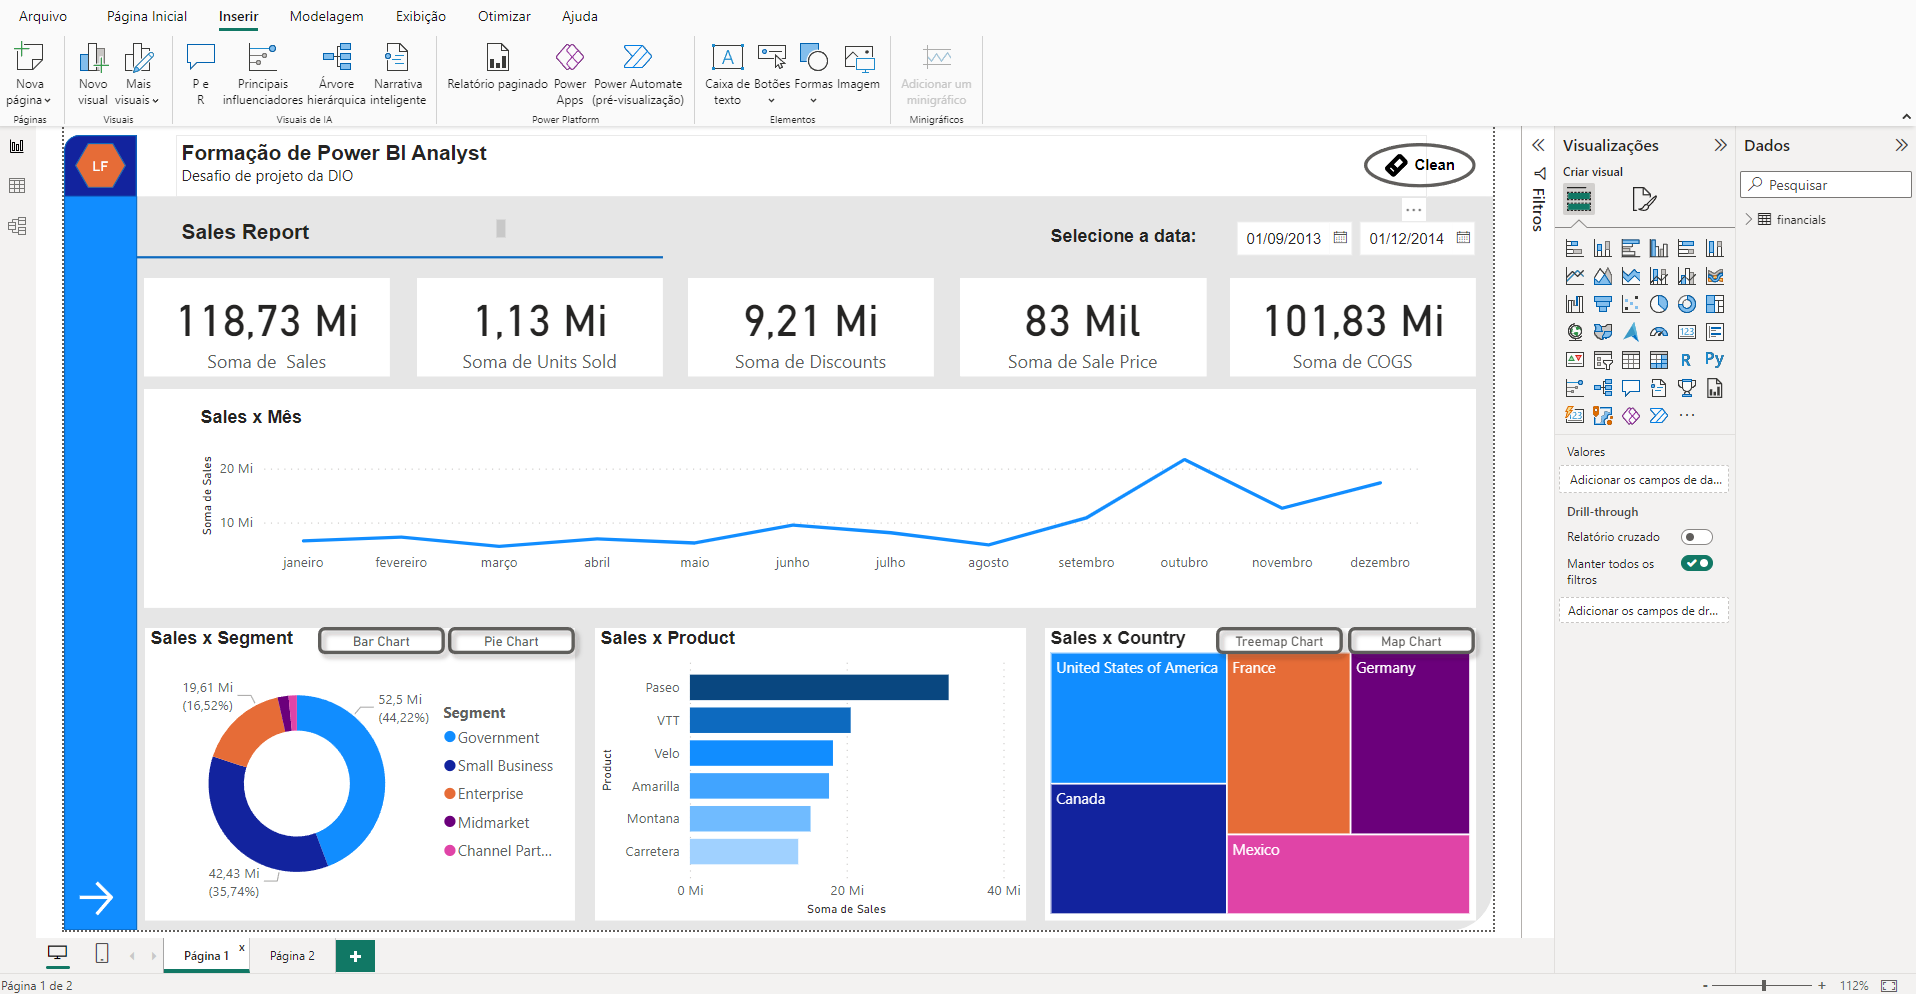

This screenshot's page, from the dashboard's own definition file:
{"tool":"powerbi","page":{"name":"Página 1","canvas":[1280,720],"ordinal":0},"visuals":[{"type":"shape","box":[0,7.9,1280,712.6],"z":0},{"type":"slicer","fields":{"Values":["financials.Date"]},"box":[1037,75.9,235.2,52.5],"z":0,"group":"g3"},{"type":"shape","box":[64.5,78.8,472.2,77.8],"z":0,"group":"g6"},{"type":"card","fields":{"Values":["Sum(financials. Sales)"]},"box":[71.9,136.1,219.7,88.4],"z":0,"group":"g1"},{"type":"shape","box":[1044.4,136.1,220.1,88.4],"z":0,"group":"g2"},{"type":"map","title":"Sales x Country","fields":{"Category":["financials.Country"],"Size":["Sum(financials. Sales)"]},"box":[878.6,449.8,385.7,261.9],"z":0,"group":"g4"},{"type":"shape","box":[0,7.8,65.6,712.2],"z":1000},{"type":"textbox","box":[100.1,78.8,300,28.9],"z":1000,"group":"g6"},{"type":"textbox","box":[878.6,85.6,143.8,32.1],"z":1000,"group":"g3"},{"type":"card","fields":{"Values":["Sum(financials.Units Sold)"]},"box":[316.8,136.1,219.7,88.4],"z":1000,"group":"g1"},{"type":"shape","box":[803.2,136.1,220.1,88.4],"z":1000,"group":"g2"},{"type":"treemap","title":"Sales x Country","fields":{"Group":["financials.Country"],"Values":["Sum(financials. Sales)"]},"box":[878.5,449.6,385.6,261.2],"z":1000,"group":"g4"},{"type":"donutChart","title":"Sales x Segment ","fields":{"Y":["Sum(financials. Sales)"],"Category":["financials.Segment"]},"box":[72.3,450.1,385,261.6],"z":1000,"group":"g5"},{"type":"actionButton","title":"Botão - Pie","box":[334.8,439.8,131.5,42.2],"z":1250,"group":"g5"},{"type":"actionButton","title":"Botão - Treemap","box":[1022.8,439.8,131.5,42.2],"z":1250,"group":"g4"},{"type":"actionButton","title":"Botão - Bar","box":[218.9,439.8,131.5,42.2],"z":1500,"group":"g5"},{"type":"actionButton","title":"Botão - Map","box":[1140.6,439.8,131.5,42.2],"z":1500,"group":"g4"},{"type":"shape","box":[0,7.8,65.1,55.4],"z":2000},{"type":"actionButton","box":[1164.3,15.6,100.1,39.8],"z":2000,"group":"g3"},{"type":"shape","box":[558.7,136.1,220.1,88.4],"z":2000,"group":"g2"},{"type":"card","fields":{"Values":["Sum(financials.Discounts)"]},"box":[558.8,136.1,219.7,88.4],"z":2000,"group":"g1"},{"type":"shape","box":[65.1,7.8,1214.9,55.4],"z":3000},{"type":"shape","box":[316.4,136.1,220.1,88.4],"z":3000,"group":"g2"},{"type":"card","fields":{"Values":["Sum(financials.Sale Price)"]},"box":[802.8,136.1,219.7,88.4],"z":3000,"group":"g1"},{"type":"textbox","box":[100.1,7.8,1120.6,55.4],"z":4000},{"type":"shape","box":[71.9,136.1,220.1,88.4],"z":4000,"group":"g2"},{"type":"card","fields":{"Values":["Sum(financials.COGS)"]},"box":[1044.8,136.1,219.7,88.4],"z":4000,"group":"g1"},{"type":"group","id":"g1","title":"cartões","box":[71.9,136.1,1192.5,88.4],"z":5000,"group":"g2"},{"type":"shape","box":[71.6,235.5,1192.8,196.1],"z":5000},{"type":"shape","box":[72.6,449.6,384.8,261.1],"z":6000},{"type":"shape","box":[475.1,449.6,385.8,261.1],"z":7000},{"type":"shape","box":[878.5,449.6,385.8,261.1],"z":8000},{"type":"lineChart","title":"Sales x Mês","fields":{"Category":["financials.Date.Variation.Hierarquia de datas.Mês"],"Y":["Sum(financials. Sales)"]},"box":[117.3,251.6,1101.5,157.6],"z":9000},{"type":"clusteredBarChart","title":"Sales x Product","fields":{"Y":["Sum(financials. Sales)"],"Category":["financials.Product"]},"box":[475.1,449.6,385.8,262.1],"z":10000},{"type":"group","id":"g2","title":"Cartões","box":[71.9,136.1,1192.5,88.4],"z":11000},{"type":"group","id":"g3","title":"Filtro","box":[878.6,15.6,393.6,112.7],"z":12000},{"type":"group","id":"g4","title":"Sales x Country","box":[878.5,439.8,393.6,271.9],"z":13000},{"type":"group","id":"g5","title":"Sales x Segment","box":[71.7,439.8,394.6,271.9],"z":14000},{"type":"group","id":"g6","title":"Title Report","box":[64.5,78.8,471.9,77.9],"z":15000},{"type":"actionButton","title":"Botão - next","box":[8.1,671.6,47.5,40.3],"z":16000},{"type":"shape","box":[65.8,99.1,471.2,36.3],"z":17000},{"type":"shape","box":[9.9,15.2,45.7,40.3],"z":18000}]}

Visuals, with their boxes on the page's 1280x720 design canvas (x1, y1, x2, y2). These are canvas units, not pixel positions in the 1916x994 screenshot, which may show the page scaled, cropped or inside an application window:
shape: l=0, t=8, r=1280, b=720
slicer - financials.Date: l=1037, t=76, r=1272, b=128
shape: l=64, t=79, r=537, b=157
card - Sum(financials. Sales): l=72, t=136, r=292, b=224
shape: l=1044, t=136, r=1264, b=224
"Sales x Country" map: l=879, t=450, r=1264, b=712
shape: l=0, t=8, r=66, b=720
textbox: l=100, t=79, r=400, b=108
textbox: l=879, t=86, r=1022, b=118
card - Sum(financials.Units Sold): l=317, t=136, r=536, b=224
shape: l=803, t=136, r=1023, b=224
"Sales x Country" treemap: l=878, t=450, r=1264, b=711
"Sales x Segment " donutChart: l=72, t=450, r=457, b=712
"Botão - Pie" actionButton: l=335, t=440, r=466, b=482
"Botão - Treemap" actionButton: l=1023, t=440, r=1154, b=482
"Botão - Bar" actionButton: l=219, t=440, r=350, b=482
"Botão - Map" actionButton: l=1141, t=440, r=1272, b=482
shape: l=0, t=8, r=65, b=63
actionButton: l=1164, t=16, r=1264, b=55
shape: l=559, t=136, r=779, b=224
card - Sum(financials.Discounts): l=559, t=136, r=778, b=224
shape: l=65, t=8, r=1280, b=63
shape: l=316, t=136, r=536, b=224
card - Sum(financials.Sale Price): l=803, t=136, r=1022, b=224
textbox: l=100, t=8, r=1221, b=63
shape: l=72, t=136, r=292, b=224
card - Sum(financials.COGS): l=1045, t=136, r=1264, b=224
"cartões" group: l=72, t=136, r=1264, b=224
shape: l=72, t=236, r=1264, b=432
shape: l=73, t=450, r=457, b=711
shape: l=475, t=450, r=861, b=711
shape: l=878, t=450, r=1264, b=711
"Sales x Mês" lineChart: l=117, t=252, r=1219, b=409
"Sales x Product" clusteredBarChart: l=475, t=450, r=861, b=712
"Cartões" group: l=72, t=136, r=1264, b=224
"Filtro" group: l=879, t=16, r=1272, b=128
"Sales x Country" group: l=878, t=440, r=1272, b=712
"Sales x Segment" group: l=72, t=440, r=466, b=712
"Title Report" group: l=64, t=79, r=536, b=157
"Botão - next" actionButton: l=8, t=672, r=56, b=712
shape: l=66, t=99, r=537, b=135
shape: l=10, t=15, r=56, b=56
